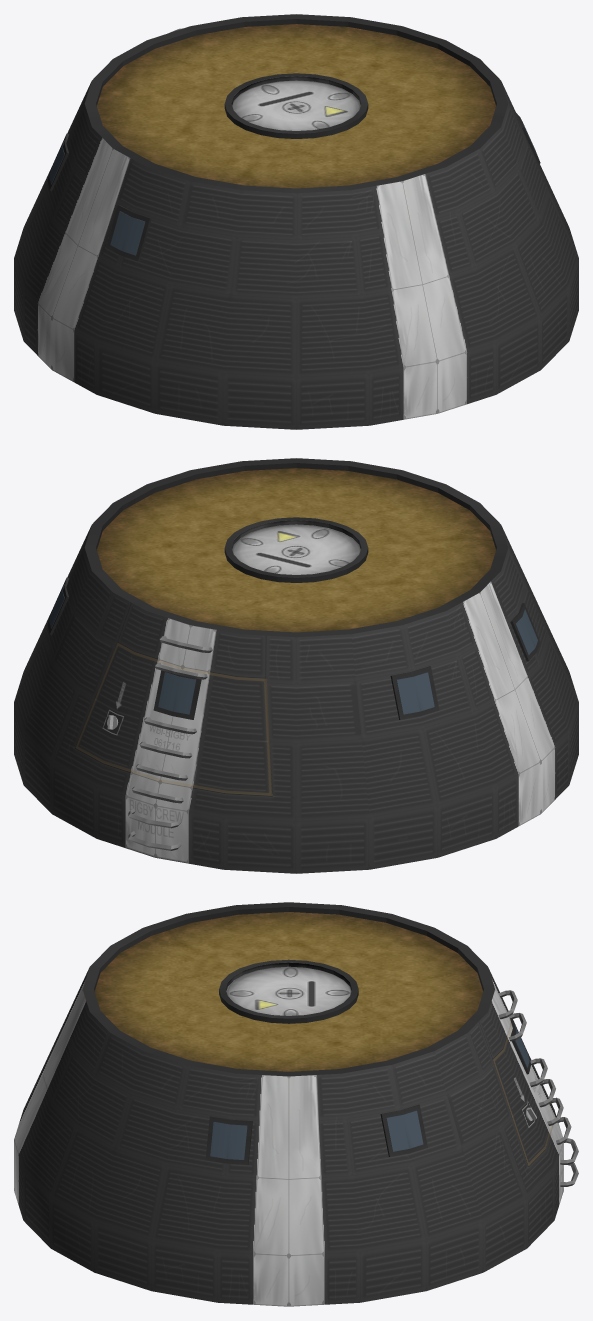
Rendered from BigA.FBX.
3 renders of one model, top to bottom at view 1: azimuth 30°, elevation 25°; view 2: azimuth 150°, elevation 25°; view 3: azimuth 270°, elevation 25°, orthographic. The views are drawn at different scales.
Visible parts, largest first — view 1: MainBody, Foil, Cylinder047, WindowCenter007, WindowFrameCenter007; view 2: MainBody, Foil, Cylinder047, WindowCenter001, WindowCenter006, WindowFrameCenter006, WindowFrameCenter001, WindowCenter007; view 3: MainBody, Foil, Cylinder047, WindowCenter009, WindowCenter008, WindowFrameCenter009, WindowFrameCenter008.
Part boxes in pixels (x1,y1,x2,y2): MainBody: (14,14,578,429); Foil: (97,24,495,188); Cylinder047: (224,73,368,138); WindowCenter007: (110,211,145,255); WindowFrameCenter007: (106,205,151,261); MainBody: (14,458,578,873); Foil: (97,468,495,632); Cylinder047: (224,517,368,582); WindowCenter001: (158,672,195,714); WindowCenter006: (397,672,434,714); WindowFrameCenter006: (390,666,439,719); WindowFrameCenter001: (153,670,201,719); WindowCenter007: (515,609,537,655); MainBody: (14,902,563,1306); Foil: (94,912,483,1071); Cylinder047: (219,959,358,1023); WindowCenter009: (210,1122,247,1159); WindowCenter008: (386,1110,423,1151); WindowFrameCenter009: (205,1116,252,1164); WindowFrameCenter008: (380,1104,427,1156).
Size of what is drawn, in the model's own units: 2.5 by 1.01 by 2.57.
